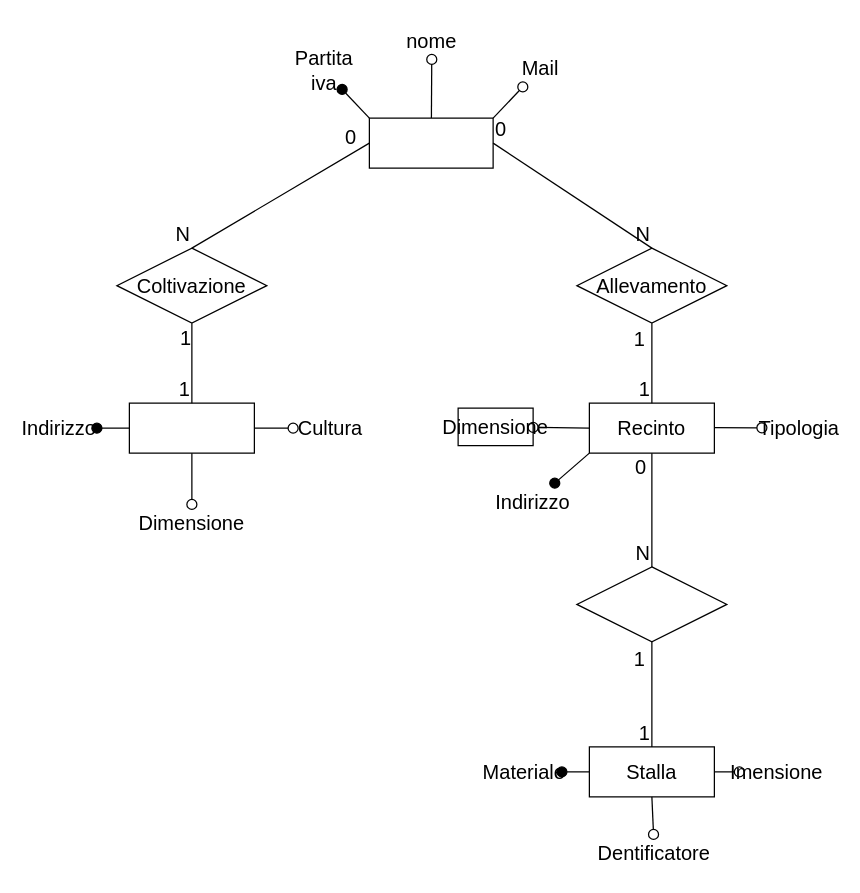
The diagram is 860 pixels wide and 893 high, and some of its shapes have lost their labels. Each missing label, with the centre of its shape:
"Azienda agricola" goes at [430,142].
"Campo" goes at [191,427].
"Presenza" goes at [651,604].
